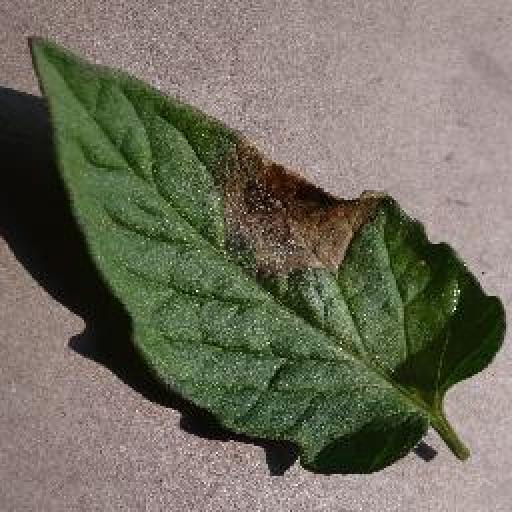disease_tomato: (28, 26, 507, 478)
